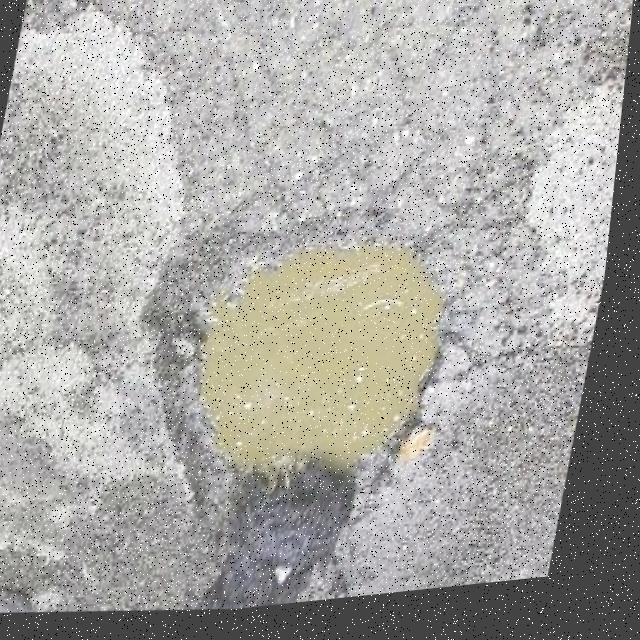pothole: (126, 216, 483, 562)
